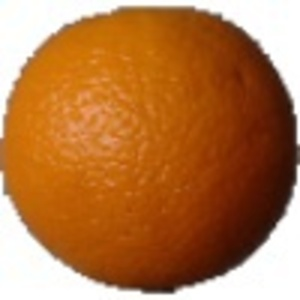laranja: (5, 4, 296, 295)
